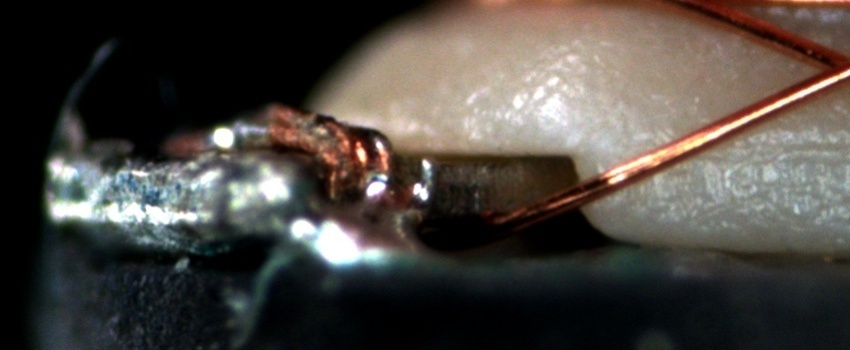CL: (796, 40, 850, 98)
DL: (723, 116, 849, 177)
TE: (258, 107, 402, 203)
